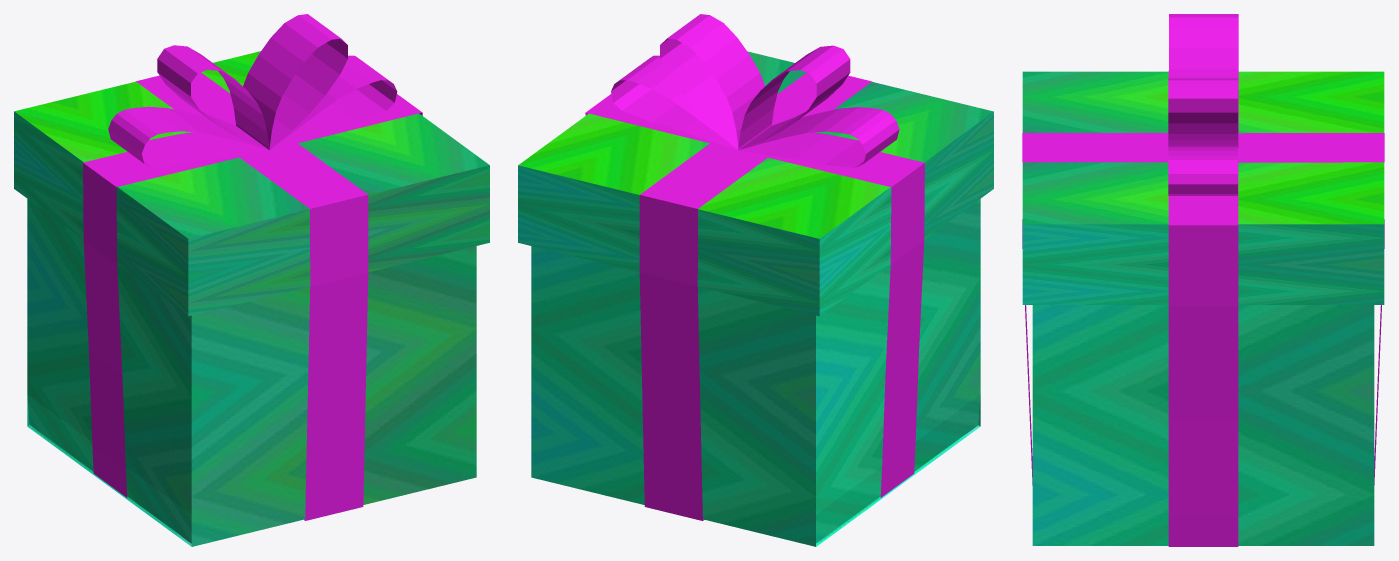
Rendered from box-green.glb.
3 renders of one model, left to right at view 1: azimuth 30°, elevation 25°; view 2: azimuth 150°, elevation 25°; view 3: azimuth 270°, elevation 25°, orthographic. The views are drawn at different scales.
Parts seen in each view (by area): view 1: Cube, Cube.001, Cube.002, Cube.005, Cube.003, Cube.004; view 2: Cube, Cube.001, Cube.004, Cube.005, Cube.003, Cube.002; view 3: Cube, Cube.001, Cube.003, Cube.002, Cube.004, Cube.005.
Part boxes in pixels (x1,y1,x2,y2): Cube: (27,199,476,546); Cube.001: (14,51,489,316); Cube.002: (237,142,368,520); Cube.005: (83,45,269,497); Cube.003: (236,14,422,150); Cube.004: (136,72,235,125); Cube: (531,199,980,546); Cube.001: (518,51,993,316); Cube.004: (639,142,769,520); Cube.005: (738,45,924,497); Cube.003: (585,14,772,149); Cube.002: (772,72,871,125); Cube: (1032,305,1374,545); Cube.001: (1022,71,1384,304); Cube.003: (1168,78,1238,546); Cube.002: (1022,133,1168,485); Cube.004: (1238,133,1384,484); Cube.005: (1168,14,1238,148).
Size of the model in its own units: 2.15 by 2.76 by 2.12.
Materials: 2 (1 with a texture image).
